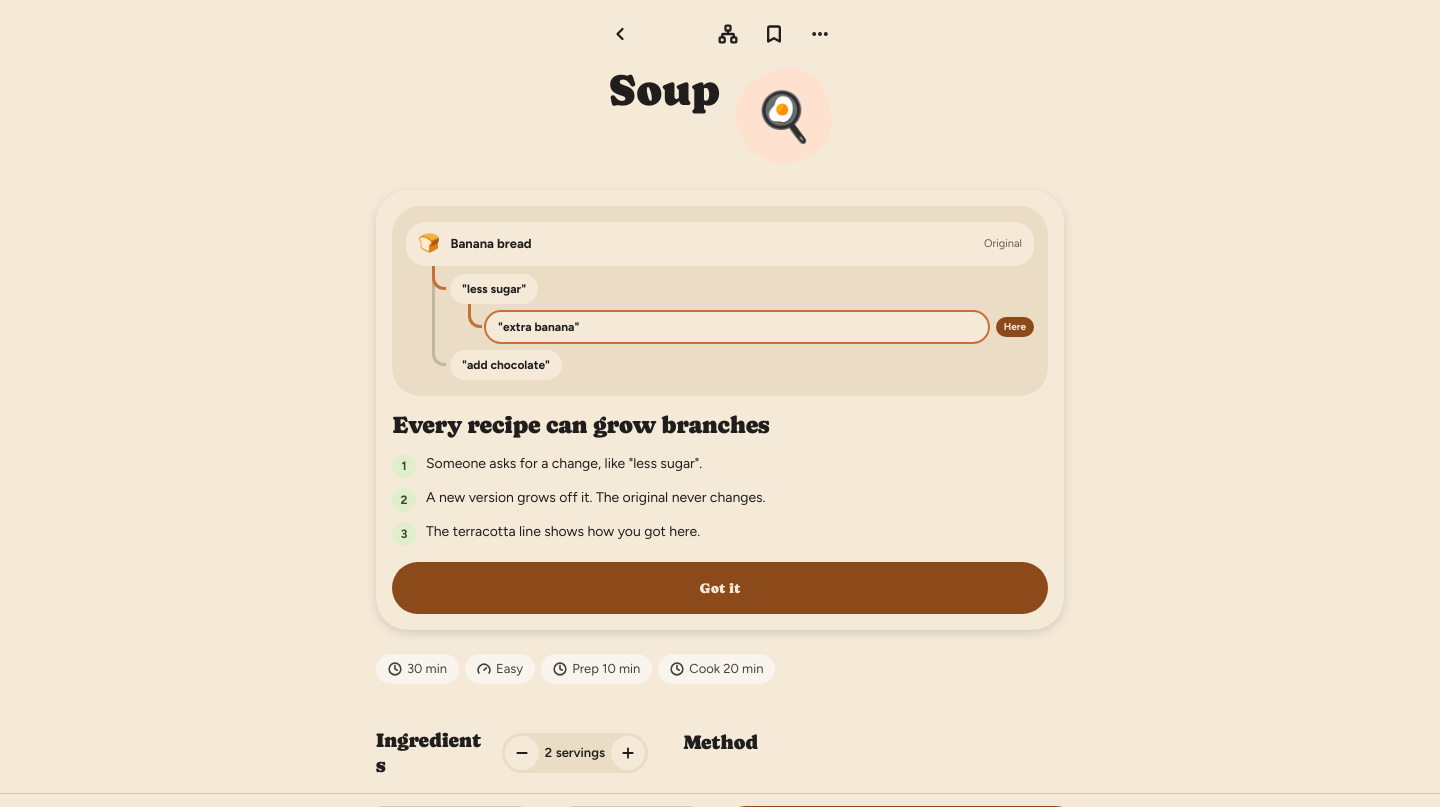
Test: RecipeDetailPage Delete › Cancel closes the failure dialog and stays on the recipe
Click the button named "More options".
click(820, 34)  # box x1=798 y1=12 x2=842 y2=56
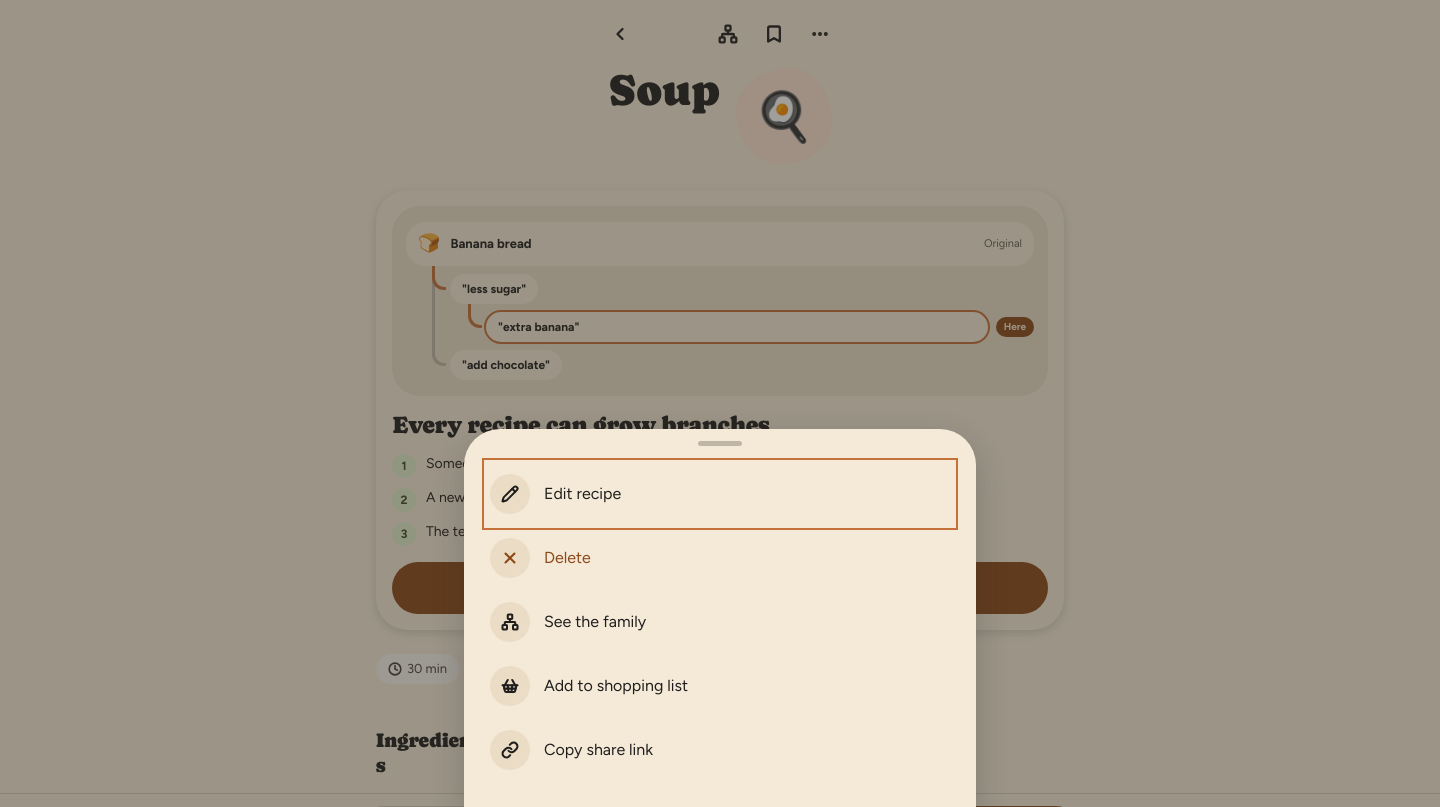
Click the button "Delete".
click(510, 558)  # box x1=486 y1=526 x2=954 y2=590
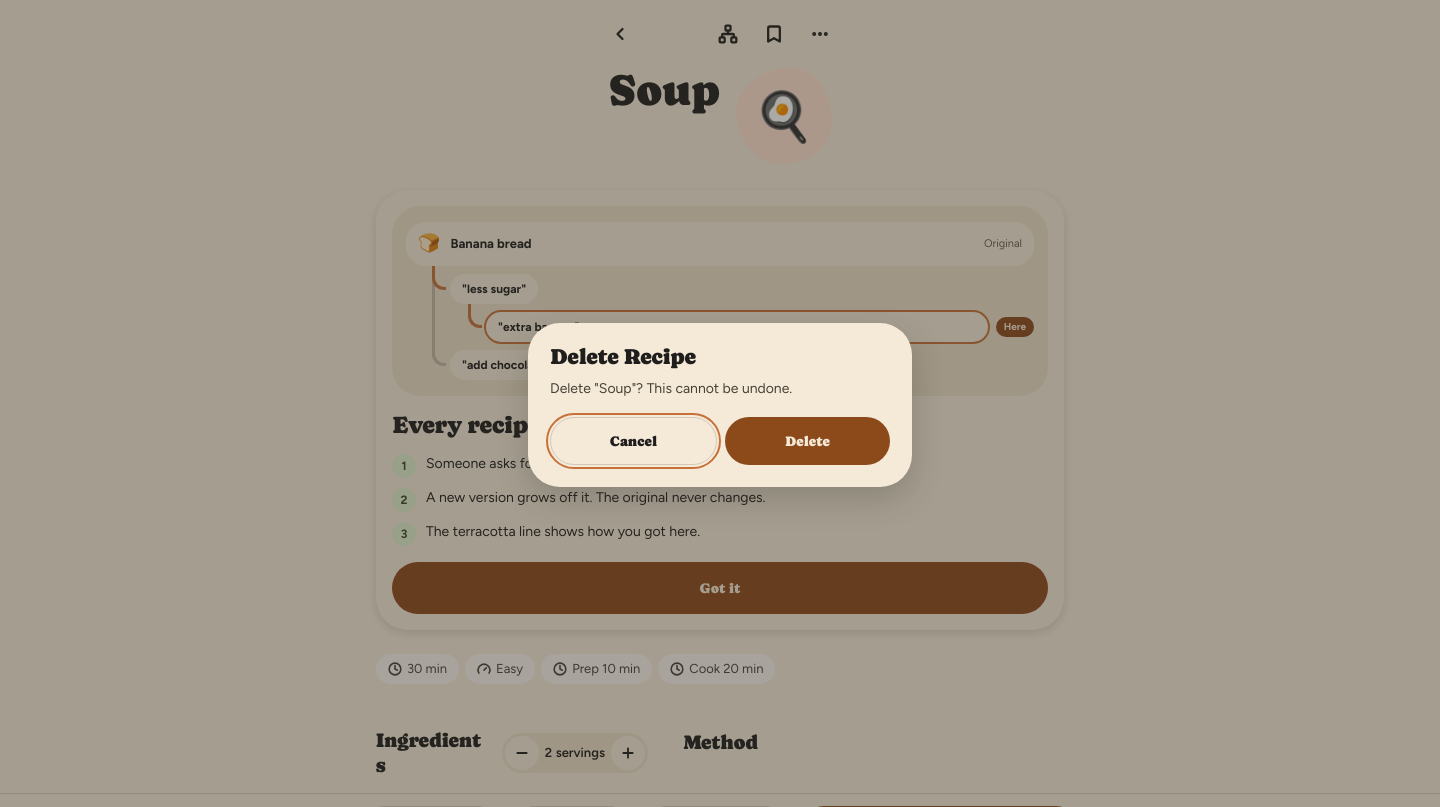
Click the button "Delete".
click(808, 441)  # box x1=725 y1=417 x2=890 y2=465
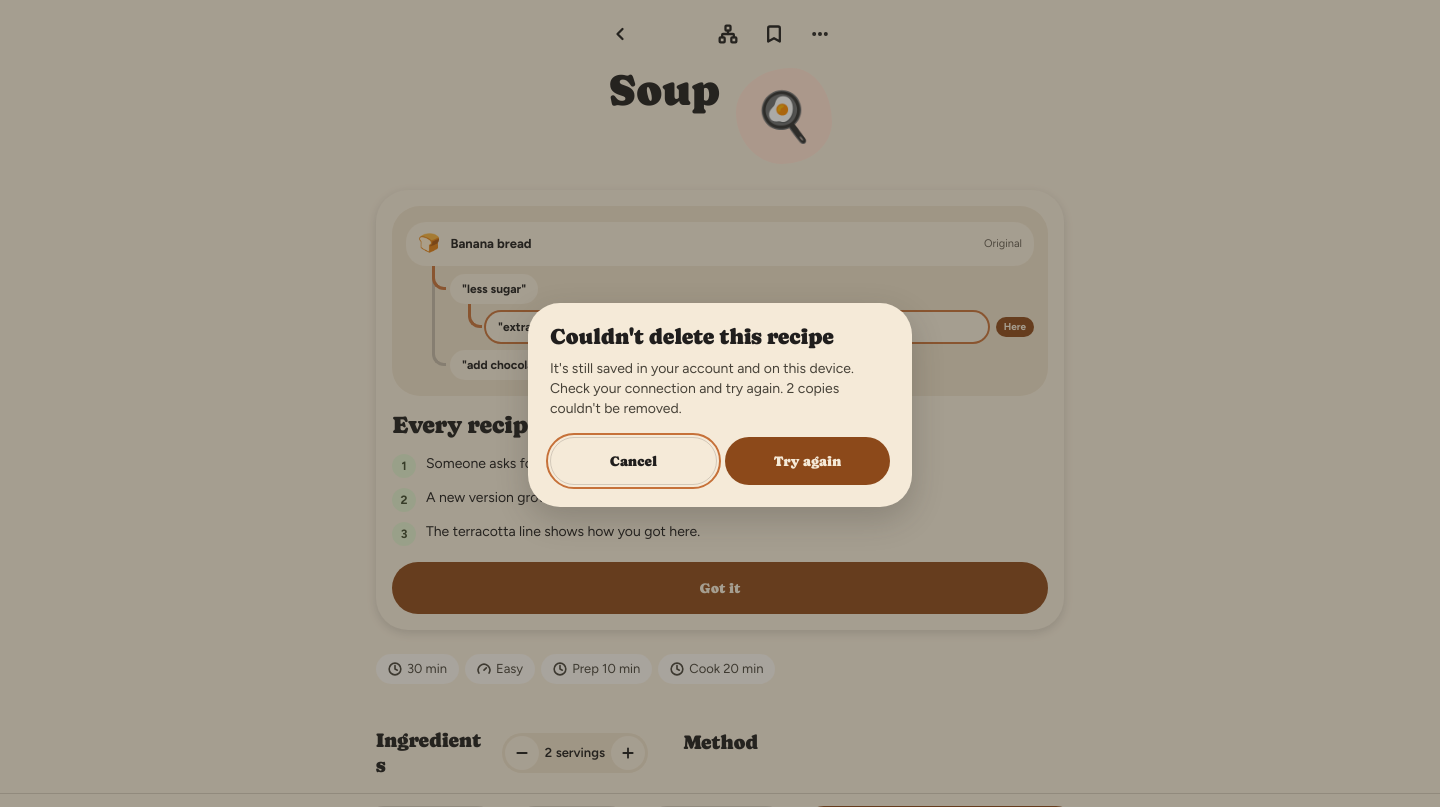
expect the heading "Couldn't delete this recipe" is shown: met, box x1=550 y1=324 x2=834 y2=349
Click the button "Cancel".
click(634, 461)  # box x1=550 y1=437 x2=717 y2=485
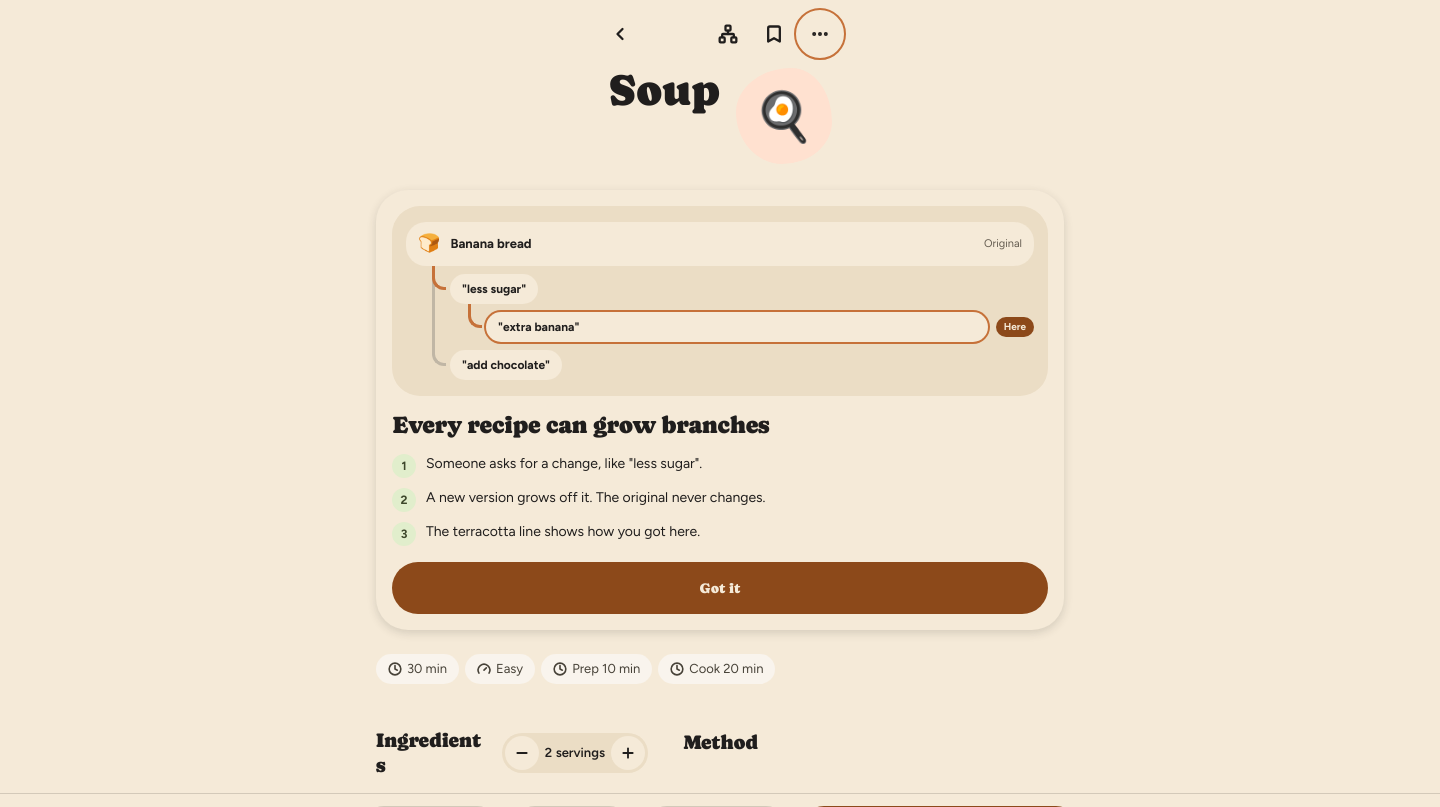
expect the heading "Soup" is shown: met, box x1=608 y1=68 x2=720 y2=120
expect the heading "Couldn't delete this recipe" is gone: met
